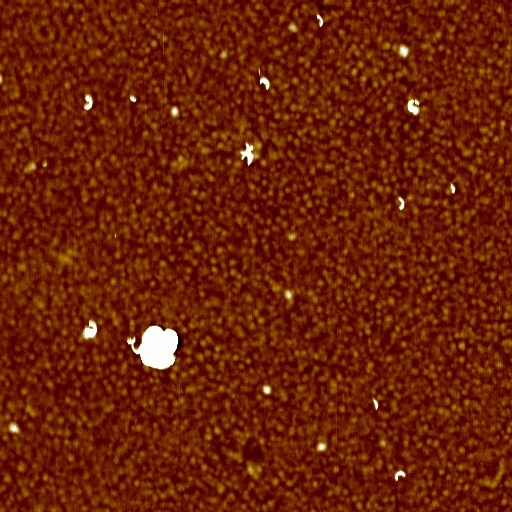-1: (125, 324, 186, 377), (81, 319, 99, 343), (167, 106, 180, 120), (314, 441, 327, 455), (260, 385, 274, 396), (397, 46, 409, 56), (127, 95, 137, 104)
1/4: (312, 13, 324, 31), (369, 396, 381, 412), (396, 196, 406, 213), (448, 183, 457, 196)
2/4: (77, 93, 95, 115), (391, 467, 408, 484), (238, 154, 256, 166), (256, 77, 271, 91), (236, 143, 254, 154)
3/4: (404, 98, 422, 117)
